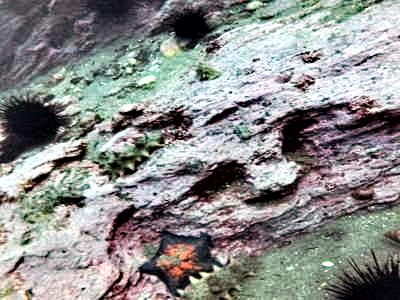urchin: (1, 89, 70, 146), (319, 246, 394, 294), (168, 5, 210, 41)
